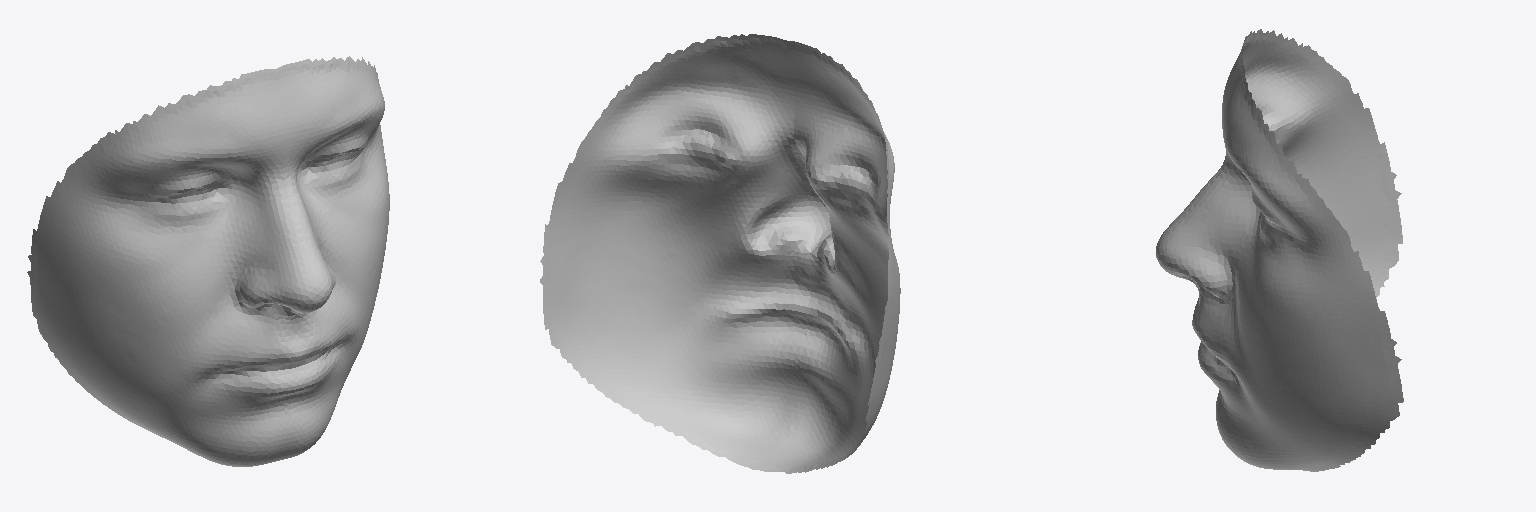
File: SIMPOP_29.obj
The picture shows the model from 3 angles: view 1: azimuth 30°, elevation 25°; view 2: azimuth 150°, elevation 25°; view 3: azimuth 270°, elevation 25°; orthographic projection.
Parts seen in each view (by area): view 1: SIMPOP_29; view 2: SIMPOP_29; view 3: SIMPOP_29.
Part boxes in pixels (x1,y1,x2,y2): SIMPOP_29: (27, 56, 389, 466); SIMPOP_29: (540, 34, 900, 473); SIMPOP_29: (1156, 29, 1403, 471).
Bounding box in the file's own units: 148 × 169 × 93.44.